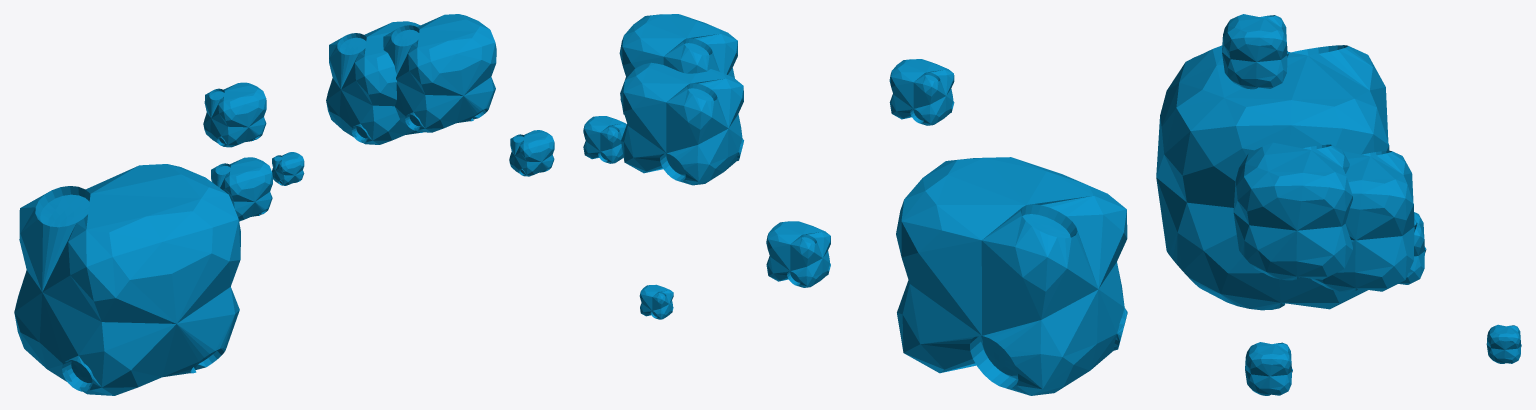
Rendered from asteroid.obj.
3 views of the same model, side by side, from view 1: azimuth 30°, elevation 25°; view 2: azimuth 150°, elevation 25°; view 3: azimuth 270°, elevation 25° (orthographic). The views are drawn at different scales.
Visible parts, largest first — view 1: Cube.003_Cube.010, Cube.002_Cube.009, Cube.001_Cube.007, Cube_Cube.004, Cube.005_Cube.012, Cube.006_Cube.013, Cube.004_Cube.011; view 2: Cube.003_Cube.010, Cube.001_Cube.007, Cube.002_Cube.009, Cube_Cube.004, Cube.005_Cube.012, Cube.006_Cube.013, Cube.004_Cube.011; view 3: Cube.003_Cube.010, Cube.002_Cube.009, Cube.001_Cube.007, Cube_Cube.004, Cube.006_Cube.013, Cube.004_Cube.011, Cube.005_Cube.012.
Boxes of the visible parts, x1=… form: Cube.003_Cube.010: x1=14, y1=164, x2=240, y2=395; Cube.002_Cube.009: x1=383, y1=14, x2=496, y2=132; Cube.001_Cube.007: x1=326, y1=21, x2=422, y2=144; Cube_Cube.004: x1=203, y1=82, x2=266, y2=147; Cube.005_Cube.012: x1=211, y1=157, x2=272, y2=221; Cube.006_Cube.013: x1=509, y1=130, x2=554, y2=176; Cube.004_Cube.011: x1=272, y1=152, x2=304, y2=185; Cube.003_Cube.010: x1=896, y1=157, x2=1127, y2=395; Cube.001_Cube.007: x1=620, y1=62, x2=743, y2=185; Cube.002_Cube.009: x1=619, y1=14, x2=737, y2=114; Cube_Cube.004: x1=889, y1=59, x2=954, y2=125; Cube.005_Cube.012: x1=766, y1=221, x2=830, y2=287; Cube.006_Cube.013: x1=583, y1=116, x2=626, y2=163; Cube.004_Cube.011: x1=639, y1=284, x2=673, y2=319; Cube.003_Cube.010: x1=1156, y1=45, x2=1389, y2=310; Cube.002_Cube.009: x1=1233, y1=142, x2=1352, y2=280; Cube.001_Cube.007: x1=1310, y1=150, x2=1417, y2=292; Cube_Cube.004: x1=1222, y1=14, x2=1288, y2=89; Cube.006_Cube.013: x1=1245, y1=342, x2=1292, y2=395; Cube.004_Cube.011: x1=1486, y1=324, x2=1521, y2=363; Cube.005_Cube.012: x1=1398, y1=212, x2=1426, y2=284.
Size of the model in its own units: 30.61 by 15.24 by 15.94.
